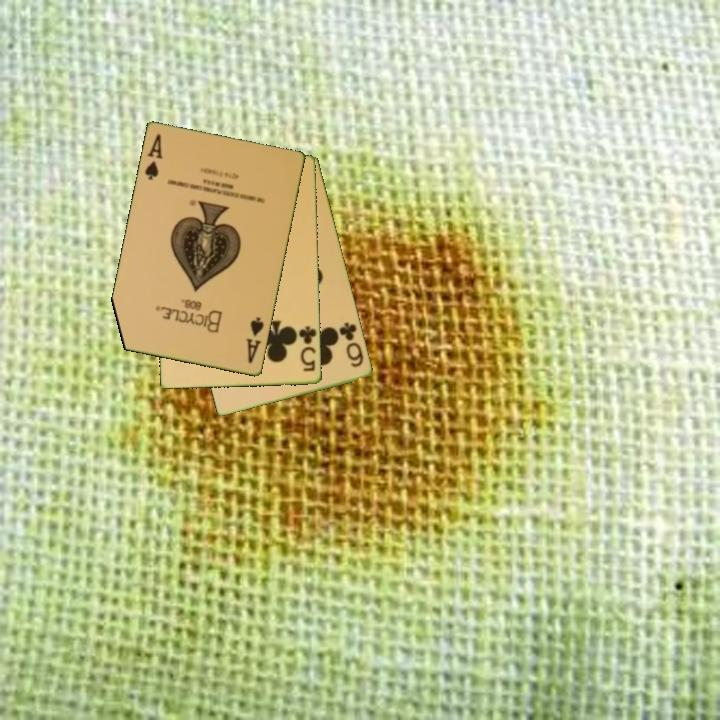5c: (295, 323, 319, 375)
6c: (336, 319, 367, 370)
As: (243, 314, 267, 367), (141, 131, 165, 183)
